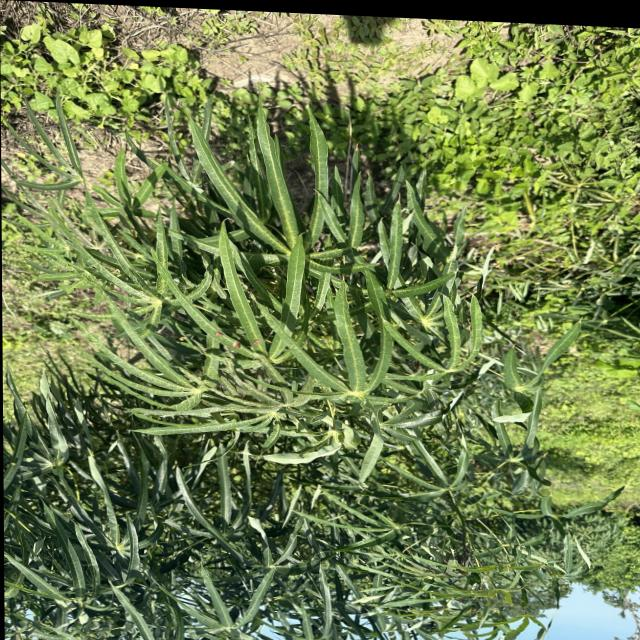Maleza: (440, 35, 640, 210), (0, 30, 183, 136), (561, 370, 640, 477)
Mosca: (230, 333, 243, 359), (210, 324, 225, 338), (250, 335, 265, 349)
